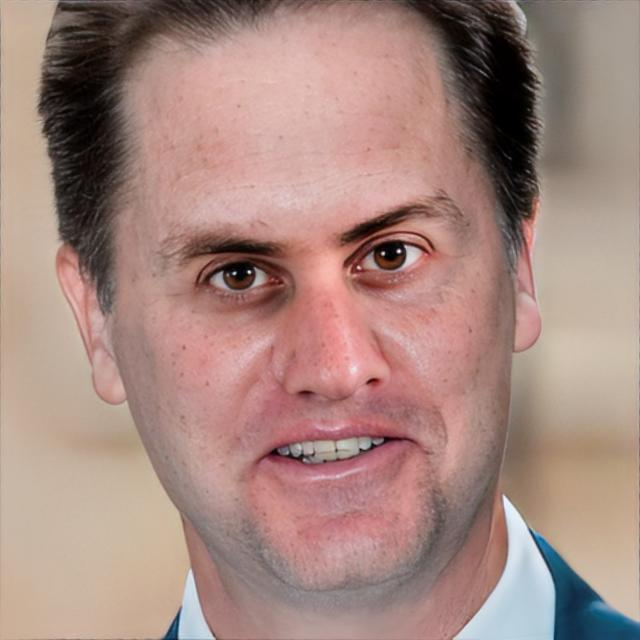disgust: (118, 1, 514, 598)
